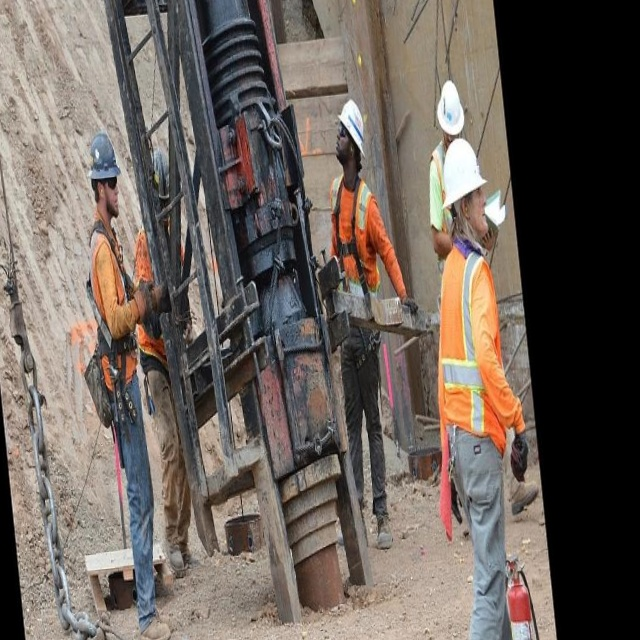Con_Casco: (437, 138, 492, 236), (85, 130, 126, 219), (330, 98, 367, 170)
Con_Chaleco: (427, 240, 514, 461), (325, 171, 384, 292)
